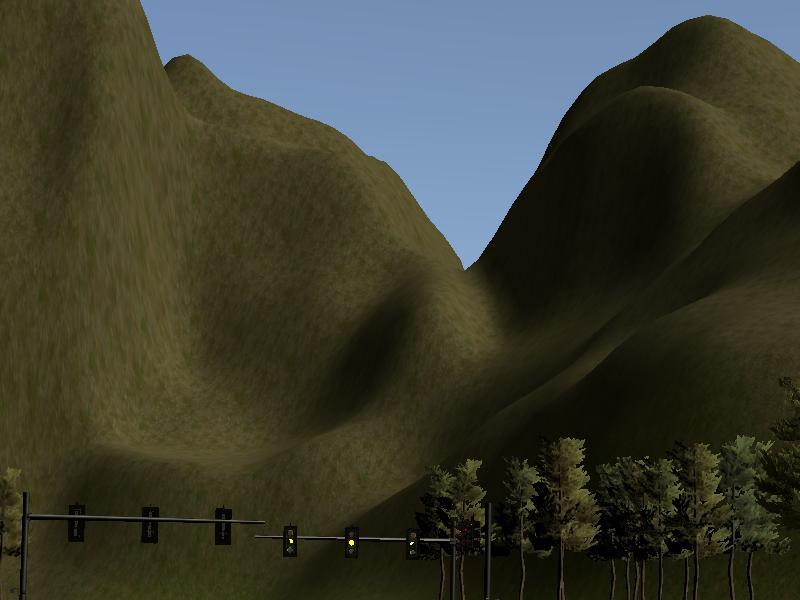Yellow: (282, 525, 298, 558), (406, 528, 420, 560), (345, 527, 358, 558)
